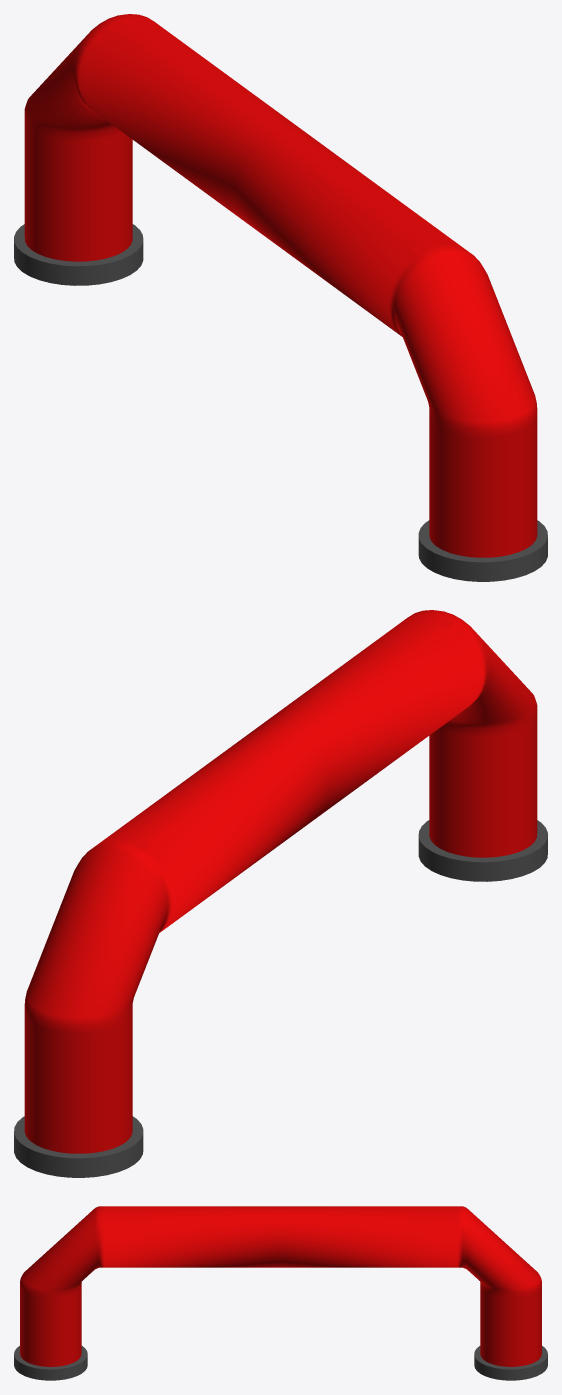
Rendered from Pipe1.fbx.
3 renders of one model, top to bottom at view 1: azimuth 30°, elevation 25°; view 2: azimuth 150°, elevation 25°; view 3: azimuth 270°, elevation 25°, orthographic. The views are drawn at different scales.
Visible parts, largest first — view 1: Cylinder; view 2: Cylinder; view 3: Cylinder.
Boxes of the visible parts, box(x1,y1,x2,y2) form: Cylinder: box(14, 14, 547, 581); Cylinder: box(14, 610, 547, 1177); Cylinder: box(14, 1206, 547, 1380).
Size of the model in its own units: 240 by 560 by 1737.
